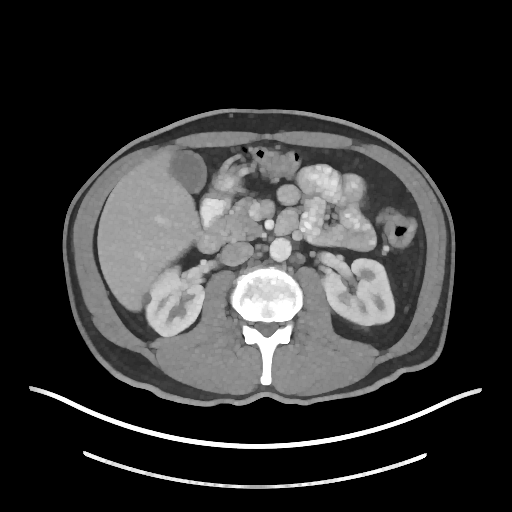Lesion: (140, 290, 154, 308)
